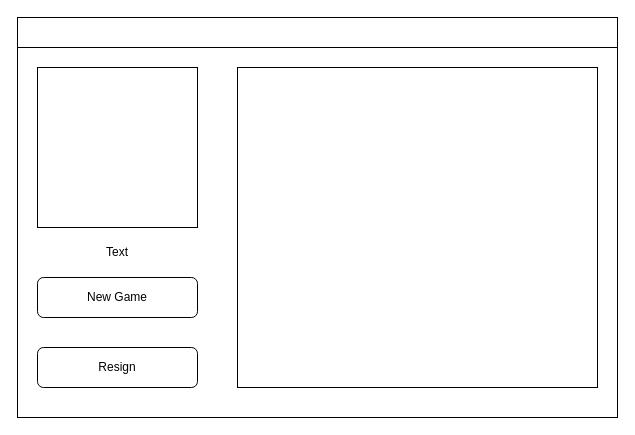
The diagram is 635 pixels wide and 435 high, and some of its shapes have lost their labels. The centre of each missing label's shape, as x and y in pixels:
checkerboard: the point at 117,147
magnified checkerboard with polyominos from highest to lowest order: the point at 417,227
